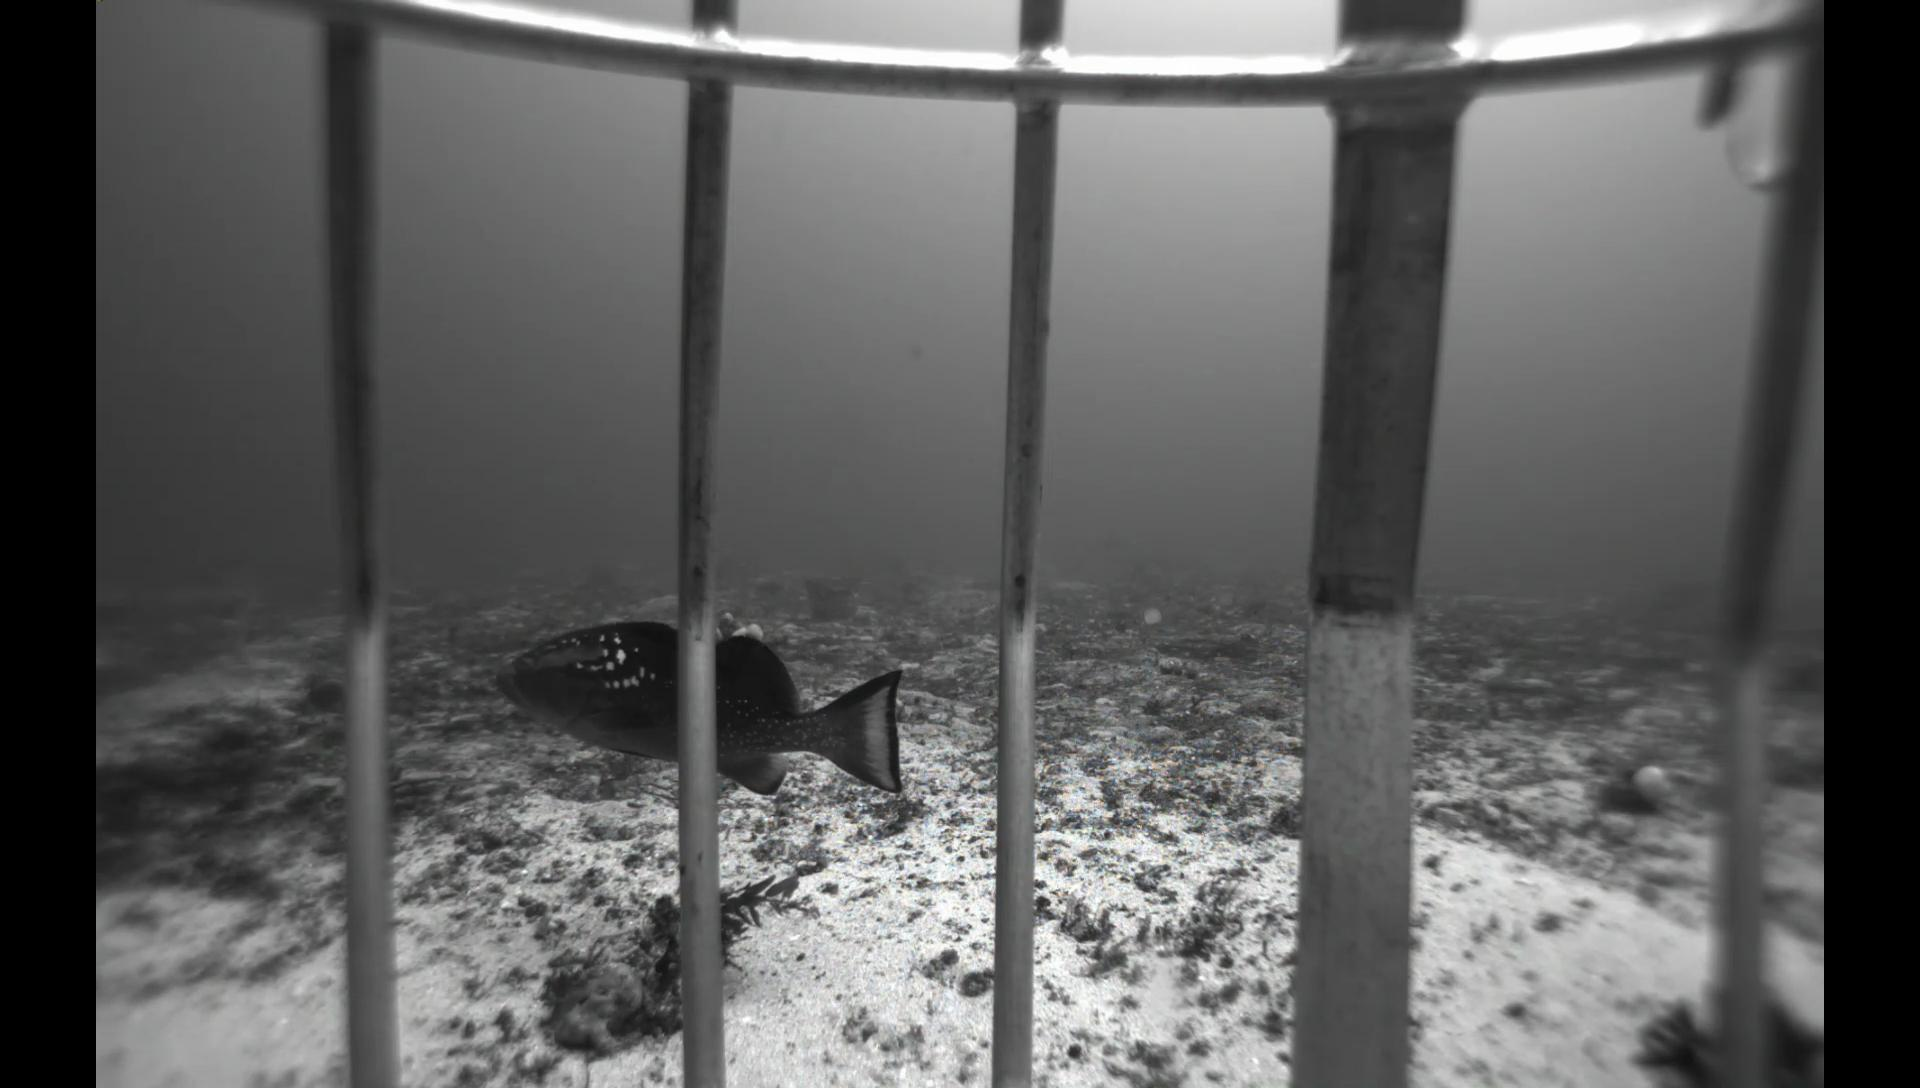CHAETODONOCELLATUS-170260307: (1199, 582, 1246, 612), (1127, 601, 1167, 632)
EPINEPHELUSMORIO-170021211: (484, 607, 922, 806)
PRISTIGENYSALTA-170050401: (295, 675, 345, 717)
